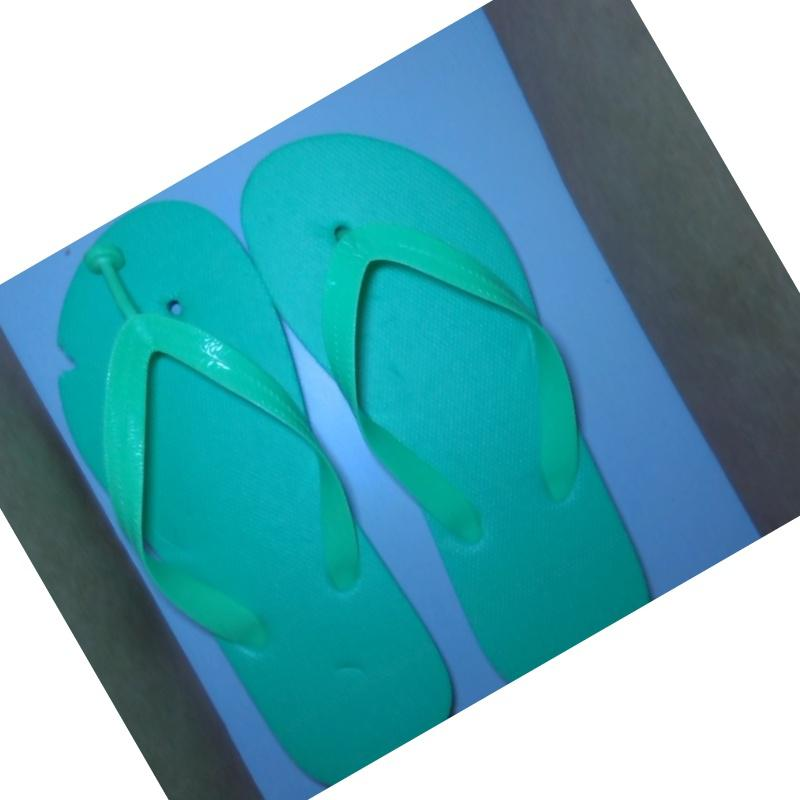chipped: (40, 325, 90, 388)
detached: (77, 242, 135, 289)
